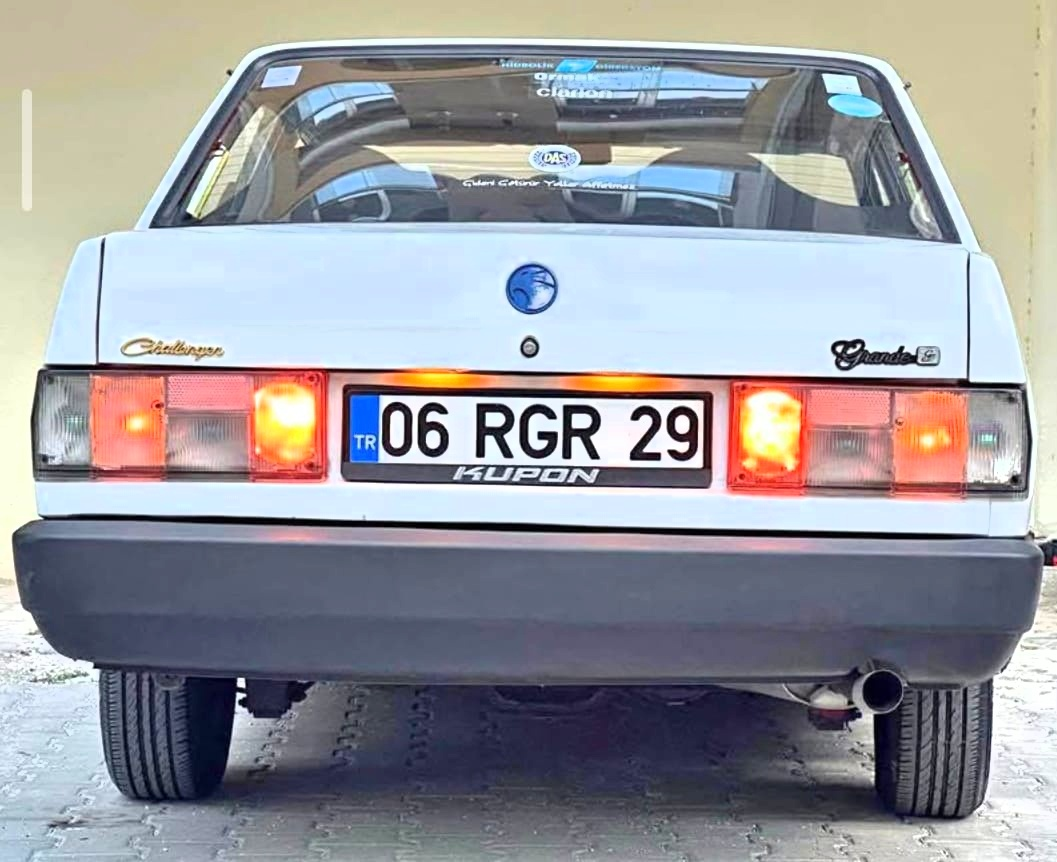plaka: (371, 382, 718, 478)
